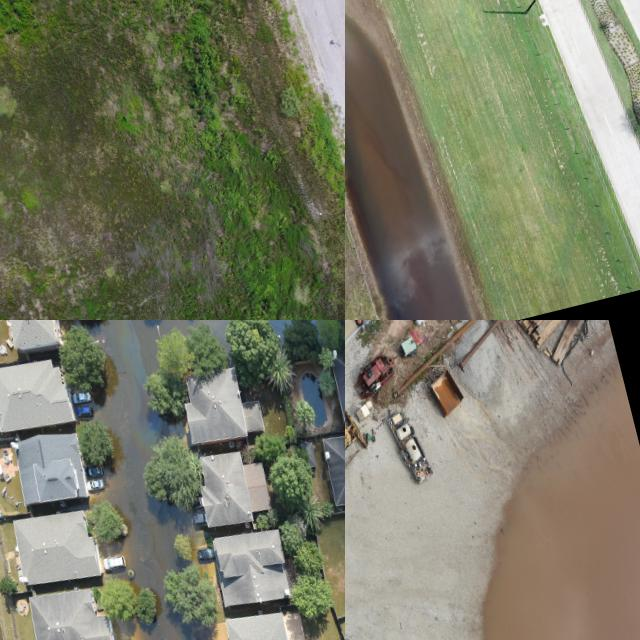fire: (483, 362, 640, 640), (84, 320, 207, 640), (345, 14, 471, 320)
